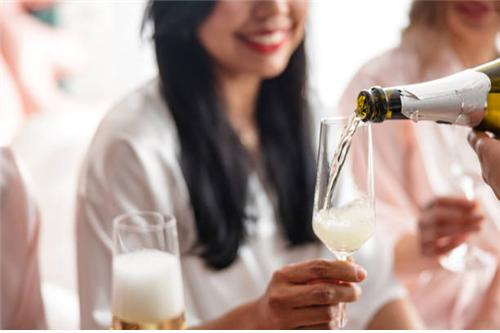alcohol: (314, 113, 378, 323), (355, 58, 500, 136), (108, 211, 186, 330)
